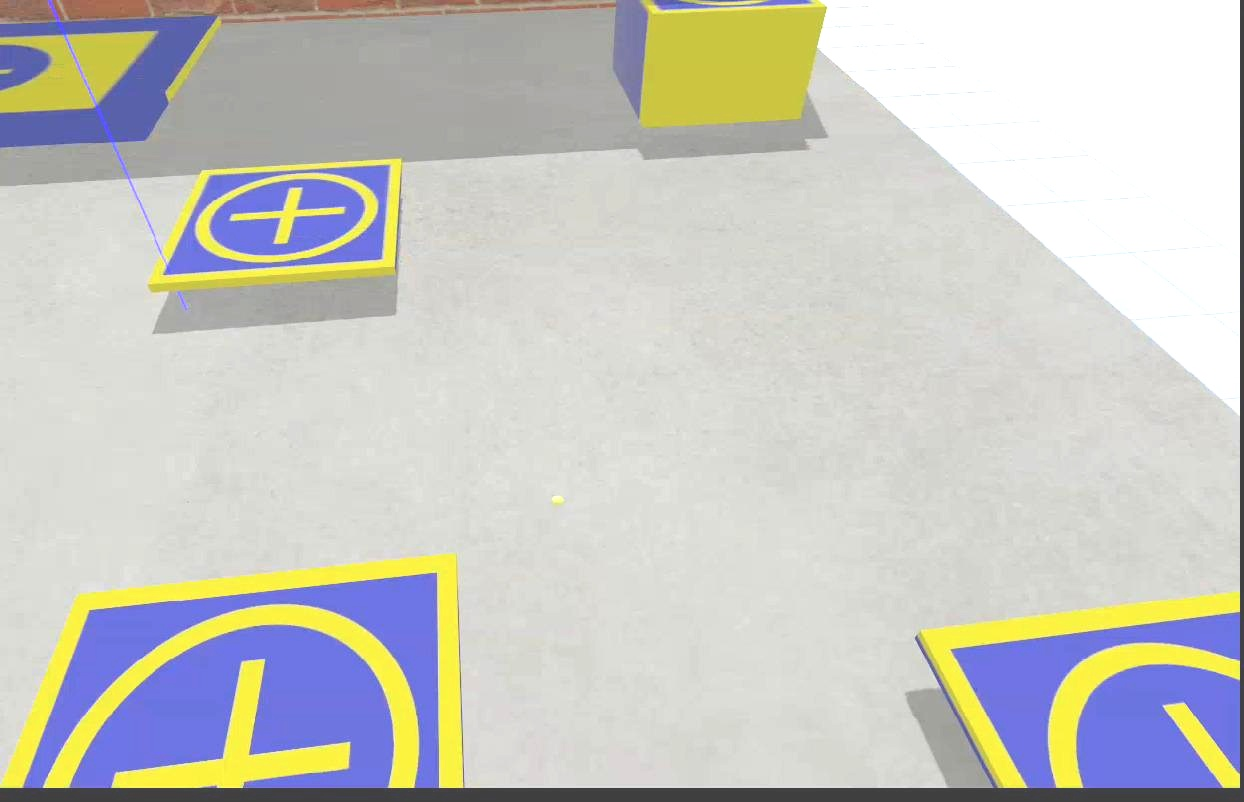large_base: (0, 12, 226, 149)
small_base: (0, 549, 467, 787), (917, 588, 1244, 792), (152, 163, 405, 292), (631, 1, 830, 19)
